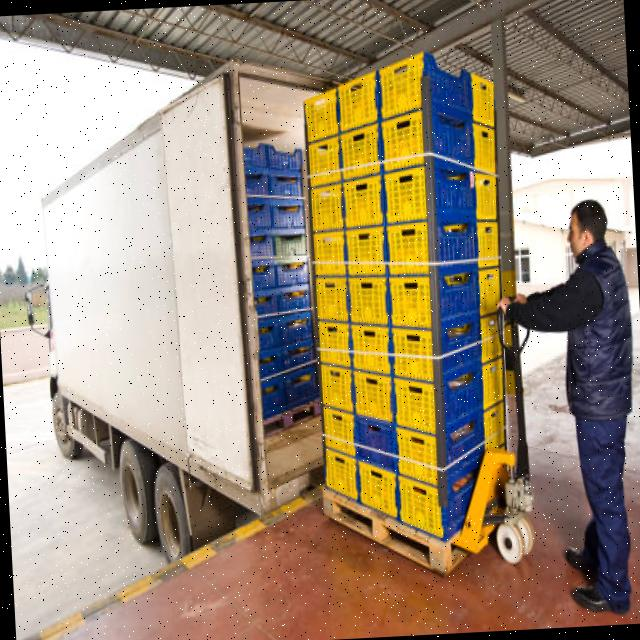Wooden-Pallets: (320, 485, 450, 581)
